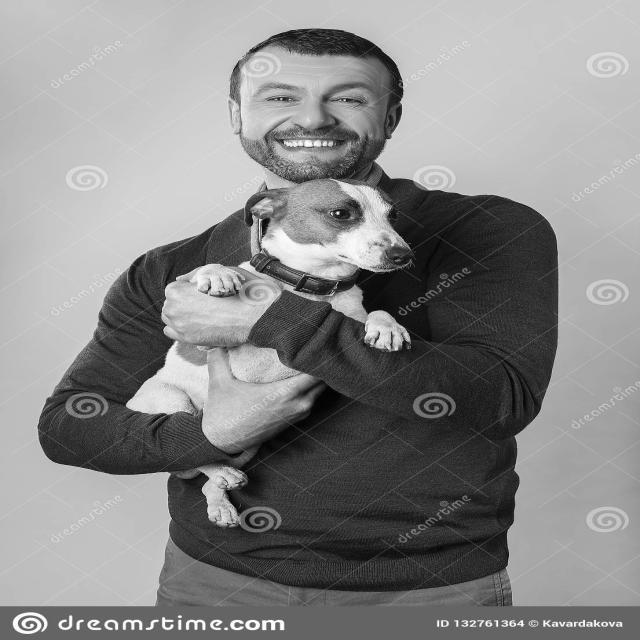stand: (125, 8, 544, 616)
